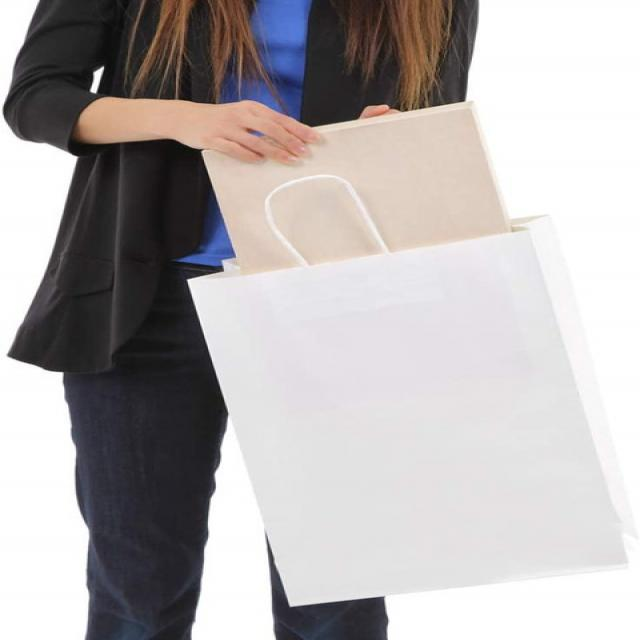paper bag: (178, 174, 635, 612)
